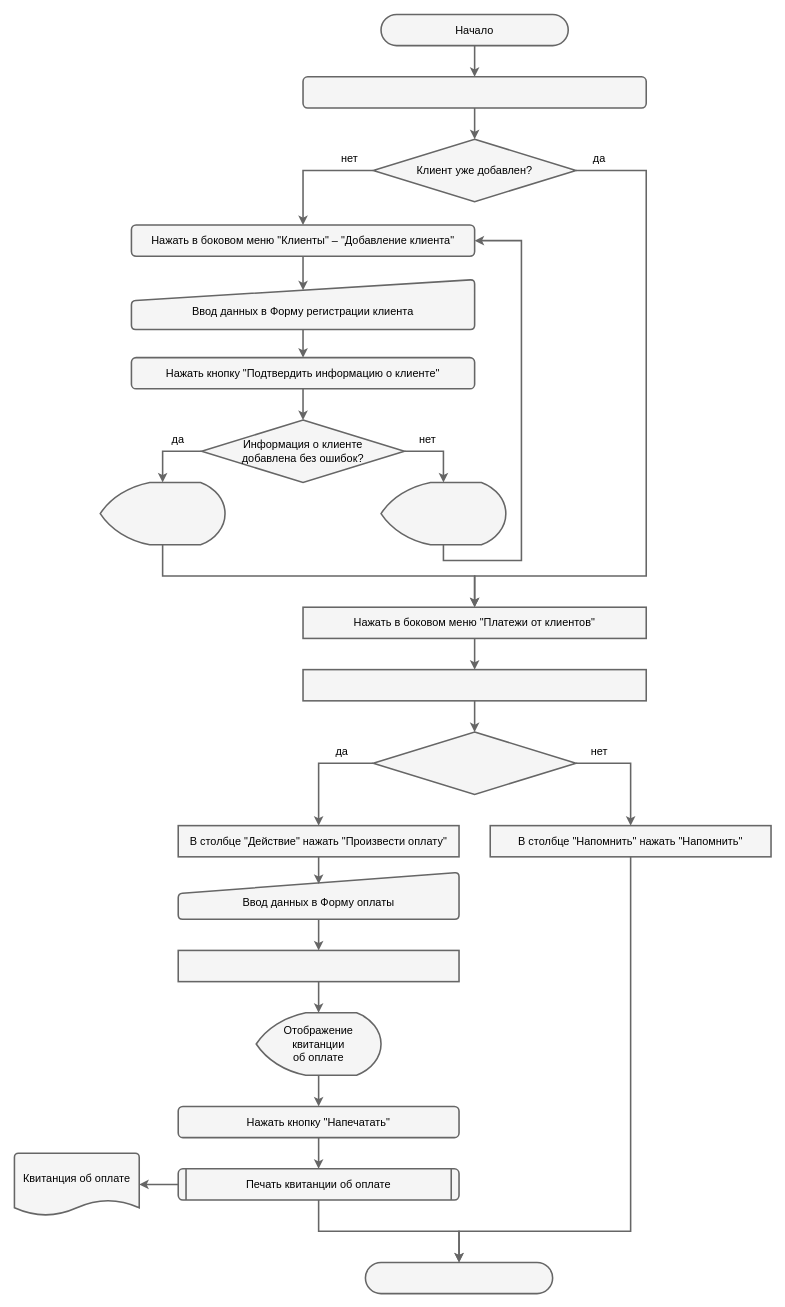
The diagram is 785 pixels wide and 1307 high, and some of its shapes have lost their labels. The shapes that lost their labels are listed below. From the top down, each one's centre as x and y in pixels, then its label:
point (474, 92): Зайти в панель администратора
point (162, 513): Отображение сообщения об успехе
point (443, 513): Отображение сообщения о неудаче
point (474, 684): Поиск клиента в Таблице платежей клиентов
point (474, 763): Клиент оплачивает сейчас?
point (318, 965): Нажать кнопку "Произвести платёж"
point (458, 1277): Конец
